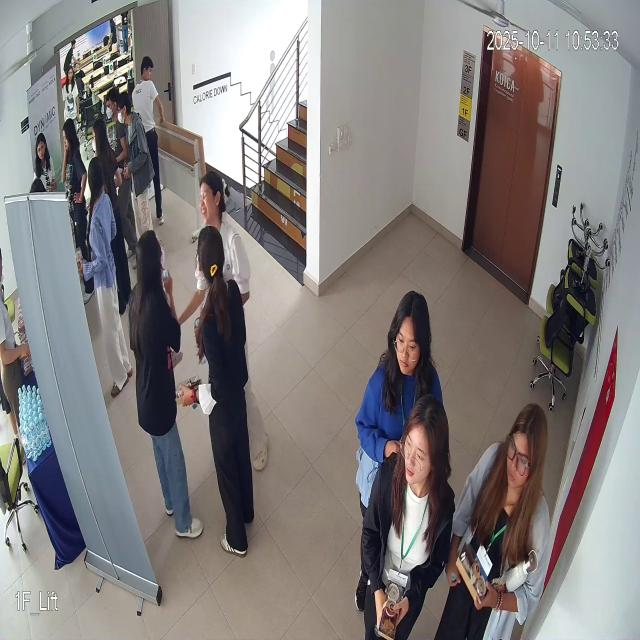face: (401, 394, 452, 499), (385, 284, 435, 380), (502, 395, 549, 496), (195, 168, 233, 234)
